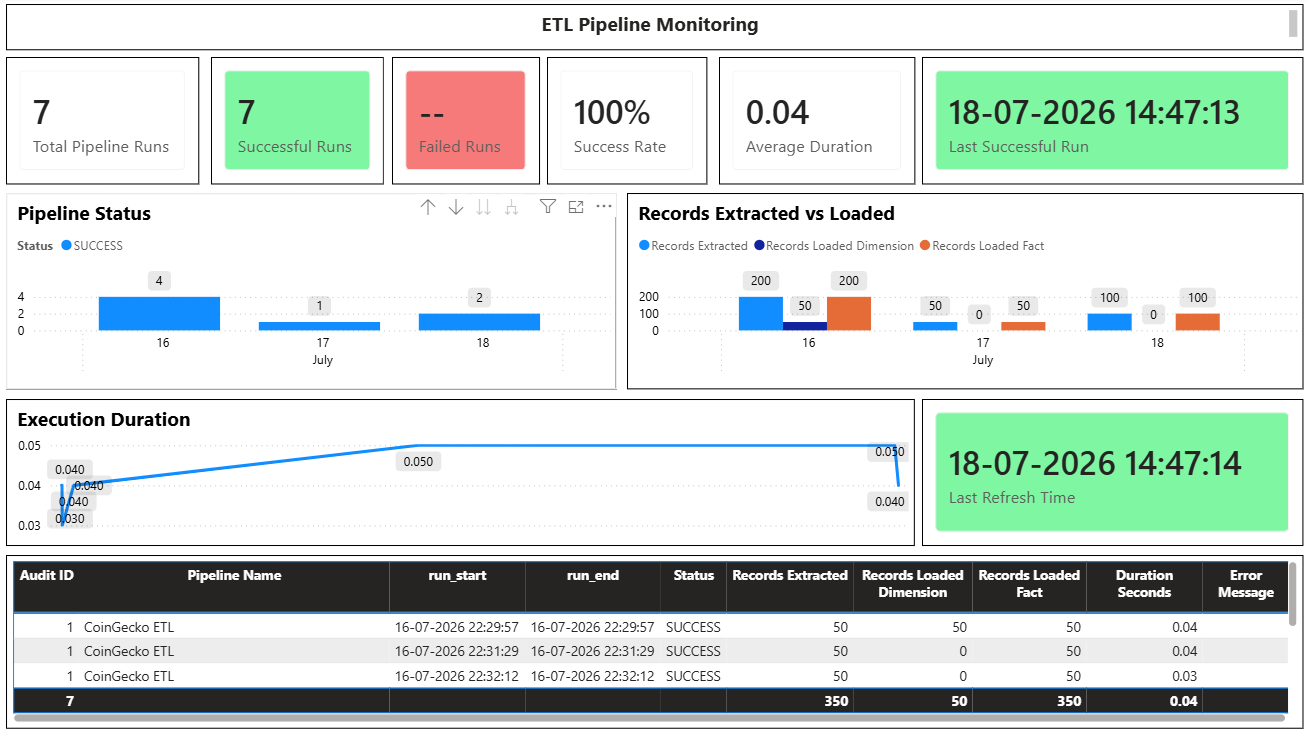

This screenshot's page, from the dashboard's own definition file:
{"tool":"powerbi","page":{"name":"ETL Pipeline Monitoring","canvas":[1280,720],"ordinal":3},"visuals":[{"type":"textbox","box":[9.7,6.8,1261.5,44.7],"z":0},{"type":"cardVisual","fields":{"Data":["crypto etl_audit.Total Pipeline Runs"]},"box":[9.7,58.4,187.7,123.5],"z":1000},{"type":"cardVisual","fields":{"Data":["crypto etl_audit.Successful Runs"]},"box":[209.1,58.4,168.3,123.5],"z":2000},{"type":"cardVisual","fields":{"Data":["crypto etl_audit.Failed Runs"]},"box":[385.2,58.4,144,123.5],"z":3000},{"type":"cardVisual","fields":{"Data":["crypto etl_audit.Success Rate"]},"box":[535.9,58.4,155.6,123.5],"z":4000},{"type":"cardVisual","fields":{"Data":["crypto etl_audit.Average Duration"]},"box":[703.2,58.4,190.6,123.5],"z":5000},{"type":"cardVisual","fields":{"Data":["crypto etl_audit.Last Successful Run"]},"box":[900.7,58.4,370.6,123.5],"z":6000},{"type":"columnChart","title":"Pipeline Status","fields":{"Category":["crypto etl_audit.run_start.Variation.Date Hierarchy.Month","crypto etl_audit.run_start.Variation.Date Hierarchy.Day"],"Series":["crypto etl_audit.status"],"Y":["Count(crypto etl_audit.audit_id)"]},"box":[9.7,190.6,594.3,190.6],"z":7000},{"type":"clusteredColumnChart","title":"Records Extracted vs Loaded","fields":{"Y":["Sum(crypto etl_audit.records_extracted)","Sum(crypto etl_audit.records_loaded_dimension)","Sum(crypto etl_audit.records_loaded_fact)"],"Category":["crypto etl_audit.run_start.Variation.Date Hierarchy.Month","crypto etl_audit.run_start.Variation.Date Hierarchy.Day"]},"box":[613.7,190.6,657.5,190.6],"z":8000},{"type":"lineChart","title":"Execution Duration","fields":{"Category":["crypto etl_audit.run_start.Variation.Date Hierarchy.Year"],"Y":["Sum(crypto etl_audit.duration_seconds)"]},"box":[9.7,391,884.1,143],"z":9000},{"type":"tableEx","fields":{"Values":["CountNonNull(crypto etl_audit.audit_id)","crypto etl_audit.pipeline_name","crypto etl_audit.run_start.Variation.Date Hierarchy.Year","crypto etl_audit.run_end.Variation.Date Hierarchy.Year","crypto etl_audit.status","Sum(crypto etl_audit.records_extracted)","Sum(crypto etl_audit.records_loaded_dimension)","Sum(crypto etl_audit.records_loaded_fact)","Sum(crypto etl_audit.duration_seconds)","crypto etl_audit.error_message"]},"box":[9.7,542.7,1261.5,169.2],"z":10000},{"type":"cardVisual","fields":{"Data":["crypto etl_audit.Last Refresh Time"]},"box":[900.7,391,370.6,143],"z":11000}]}

Visuals, with their boxes in screenshot pixels (x1, y1, x2, y2), scaled from the page's 1280x720 canvas onto the 1307x732 screenshot:
textbox: box=[10, 7, 1298, 52]
cardVisual - crypto etl_audit.Total Pipeline Runs: box=[10, 59, 202, 185]
cardVisual - crypto etl_audit.Successful Runs: box=[214, 59, 385, 185]
cardVisual - crypto etl_audit.Failed Runs: box=[393, 59, 540, 185]
cardVisual - crypto etl_audit.Success Rate: box=[547, 59, 706, 185]
cardVisual - crypto etl_audit.Average Duration: box=[718, 59, 913, 185]
cardVisual - crypto etl_audit.Last Successful Run: box=[920, 59, 1298, 185]
"Pipeline Status" columnChart: box=[10, 194, 617, 388]
"Records Extracted vs Loaded" clusteredColumnChart: box=[627, 194, 1298, 388]
"Execution Duration" lineChart: box=[10, 398, 913, 543]
tableEx - CountNonNull(crypto etl_audit.audit_id) x crypto etl_audit.pipeline_name: box=[10, 552, 1298, 724]
cardVisual - crypto etl_audit.Last Refresh Time: box=[920, 398, 1298, 543]
